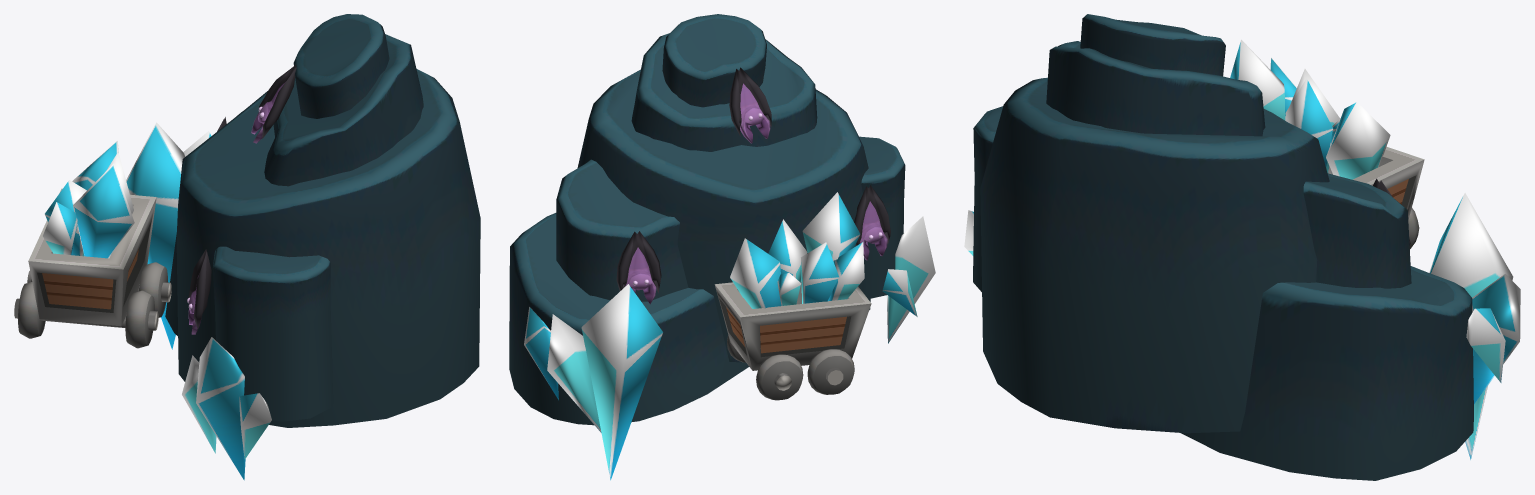
File: UndergroundOdysseyStatue.fbx
The picture shows the model from 3 angles, left to right: view 1: azimuth 30°, elevation 25°; view 2: azimuth 150°, elevation 25°; view 3: azimuth 270°, elevation 25°; orthographic projection. The views are drawn at different scales.
Visible parts, largest first — view 1: UndergroundOdysseyStatue; view 2: UndergroundOdysseyStatue; view 3: UndergroundOdysseyStatue.
Part boxes in pixels (<box>): UndergroundOdysseyStatue: <box>14,14,480,480</box>; UndergroundOdysseyStatue: <box>509,14,935,480</box>; UndergroundOdysseyStatue: <box>964,14,1520,480</box>.
Size of the model in its own units: 17.43 by 17.93 by 19.59.
